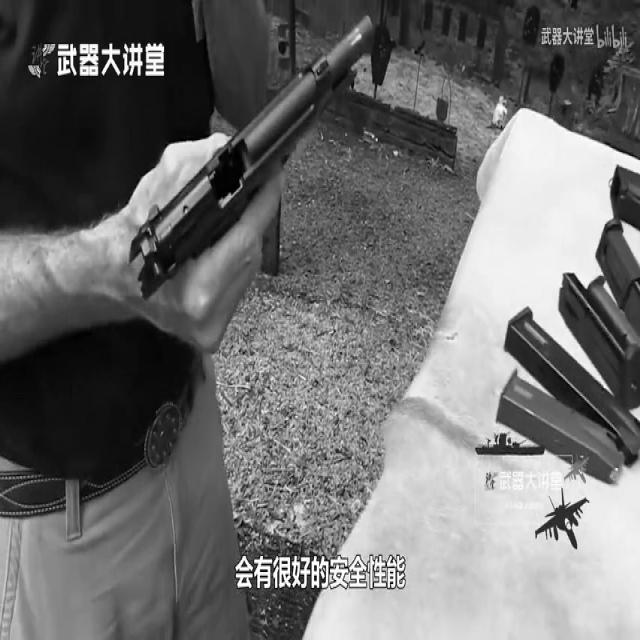Hand-Gun: (76, 0, 430, 399)
